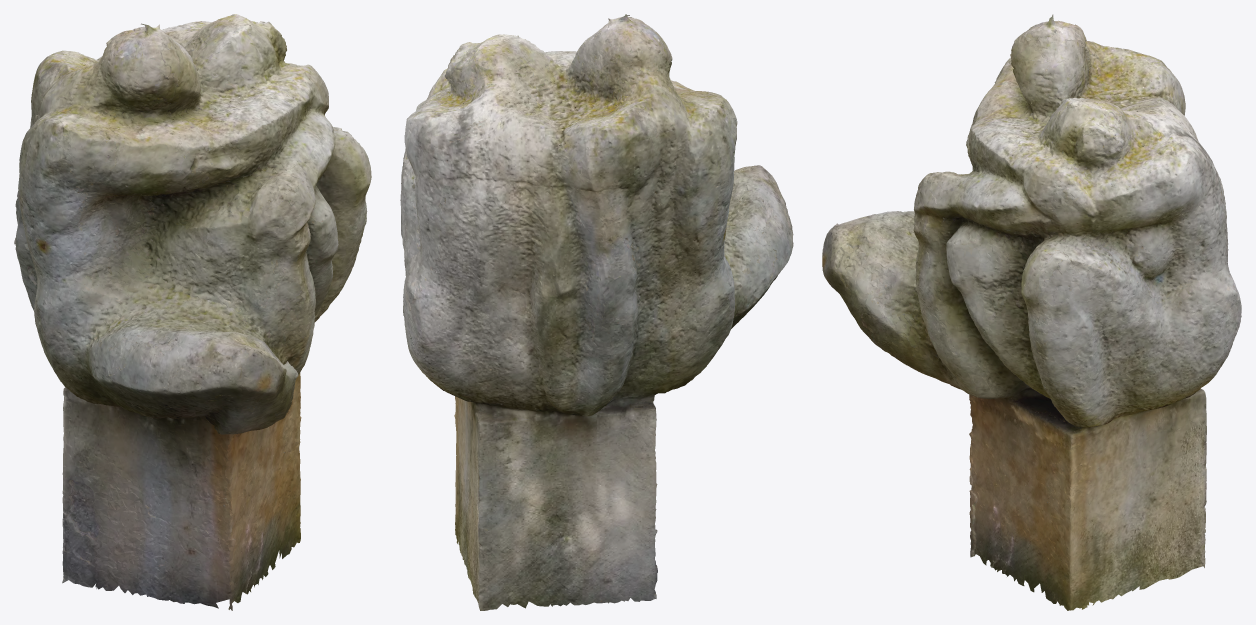
Rendered from preview.glb.
The picture shows the model from 3 angles, left to right: view 1: azimuth 30°, elevation 25°; view 2: azimuth 150°, elevation 25°; view 3: azimuth 270°, elevation 25°; orthographic projection. The views are drawn at different scales.
Parts seen in each view (by area): view 1: Object_4; view 2: Object_4; view 3: Object_4.
Boxes of the visible parts, x1,y1,x2,y2 form: Object_4: (14, 14, 371, 610); Object_4: (400, 14, 793, 610); Object_4: (822, 14, 1241, 610).
Size of the model in its own units: 1.02 by 1.68 by 1.22.
Materials: 1 (1 with a texture image).
